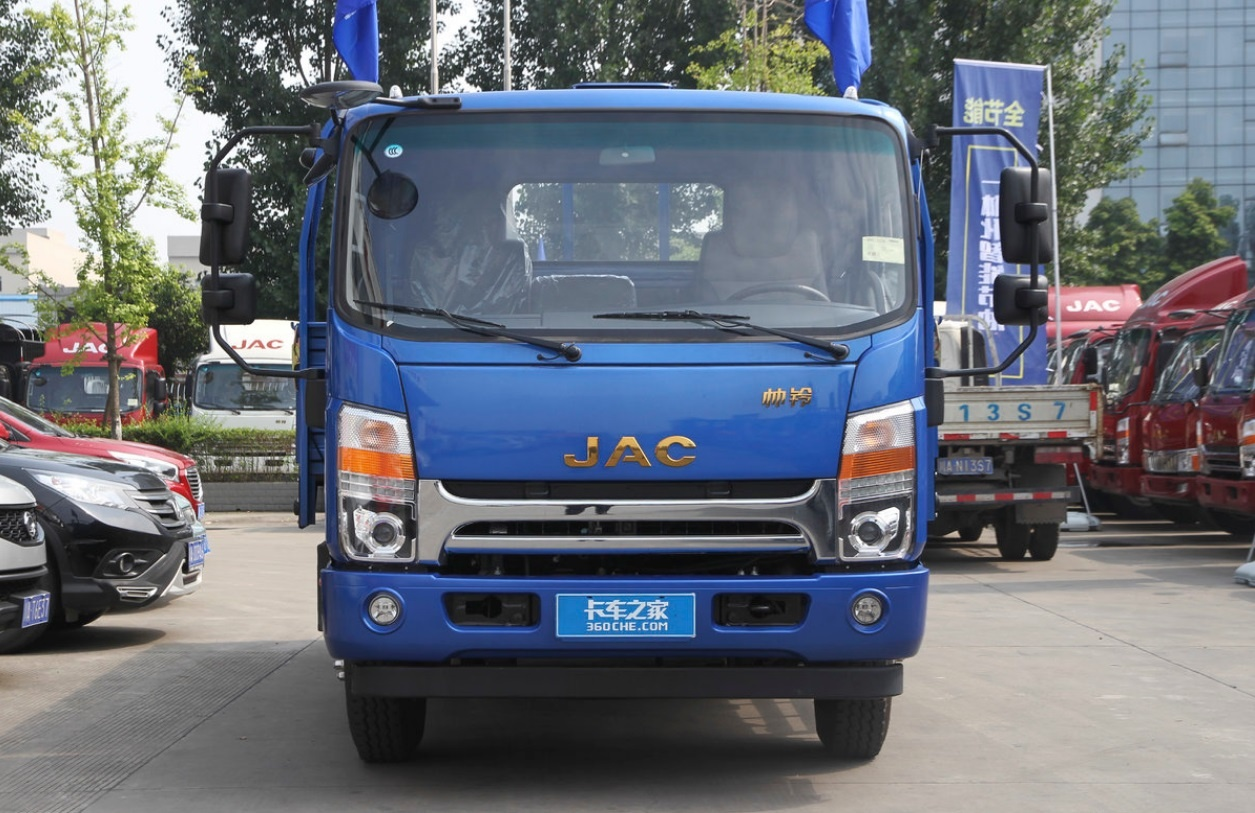heavy truck: (212, 75, 1049, 762)
